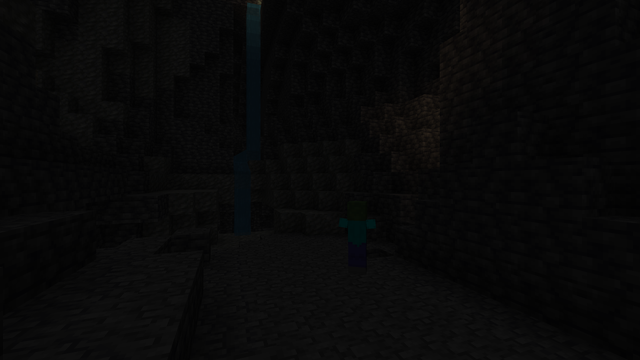zombies: (343, 202, 371, 276)
